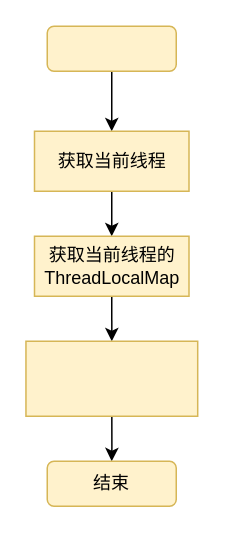
This 225x533 diagram has some shape labels left out. Each missing label, with the centre of its shape:
开始: the point at 111,48
拿到map之后，用当前对象作为key，去获取对应的value: the point at 111,378
